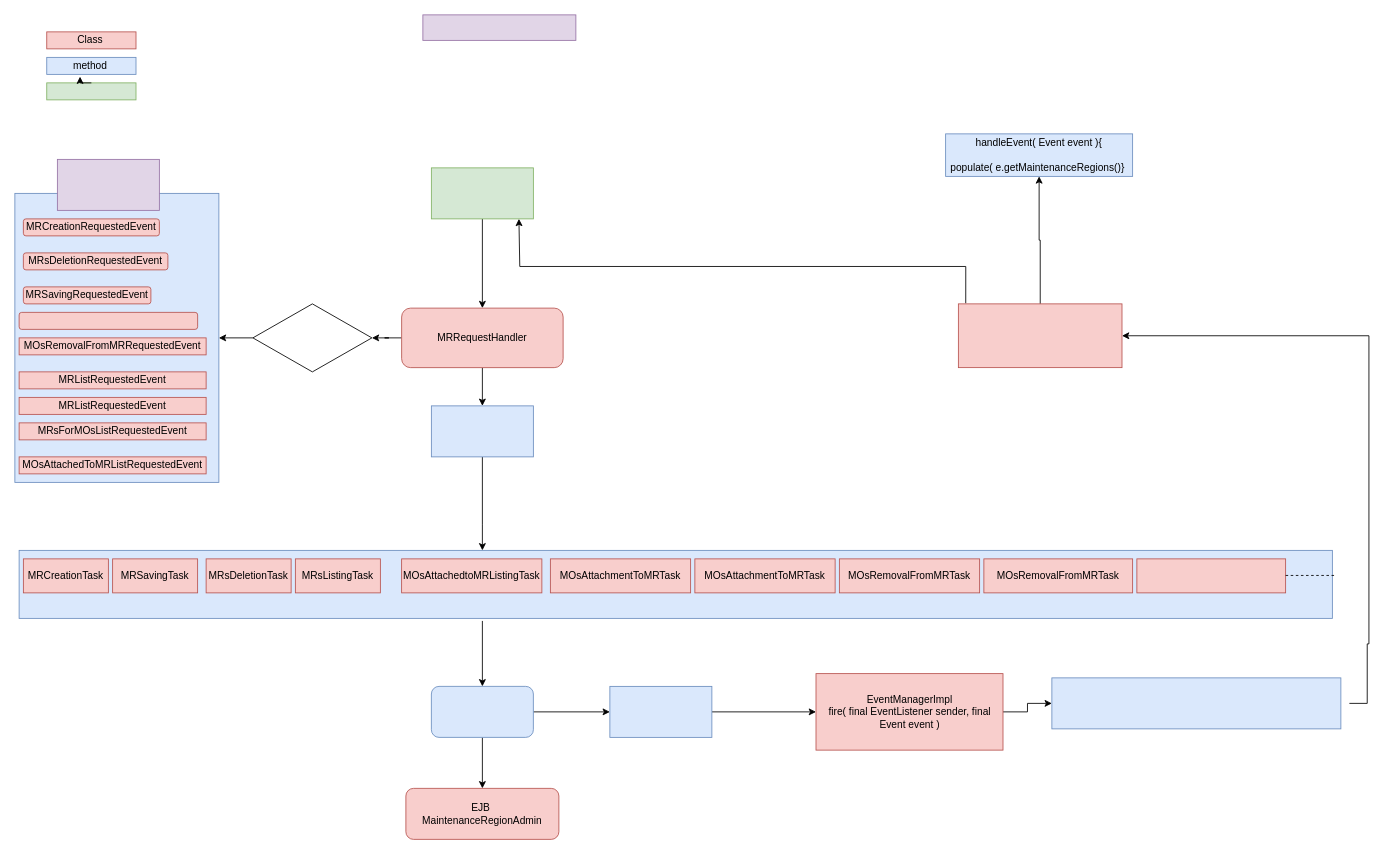
This 1391x854 diagram has some shape labels left out. Each missing label, with the centre of its shape:
"AC UI" goes at point (482, 193).
"Event" goes at point (108, 184).
"fire( event )" goes at point (660, 711).
"Handle Event Register user event" goes at point (312, 337).
"istener.handleEvent( event )" goes at point (1196, 703).
"Maintenance Region" goes at point (499, 27).
"MOsAttachmentToMRRequestedEvent" goes at point (108, 320).
"MRsController" goes at point (1040, 335).
"MRsForMOsListingTask" goes at point (1211, 575).
"myTaskMgr.runTask( type of event , true );" goes at point (482, 431).
"runTask()" goes at point (482, 711).
"UI" goes at point (91, 91).
